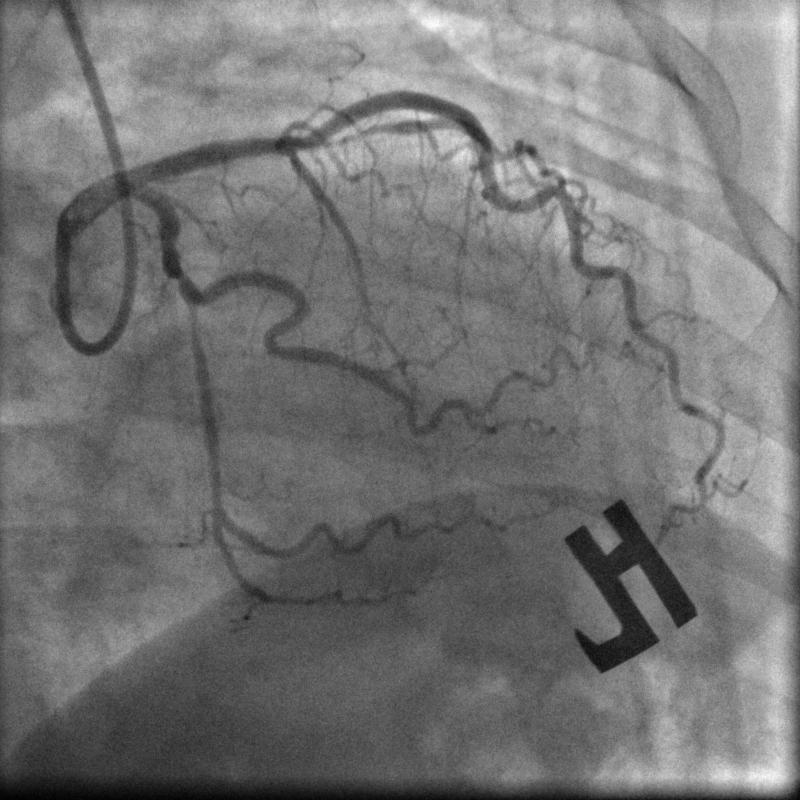Stenosis: (151, 231, 201, 298)
